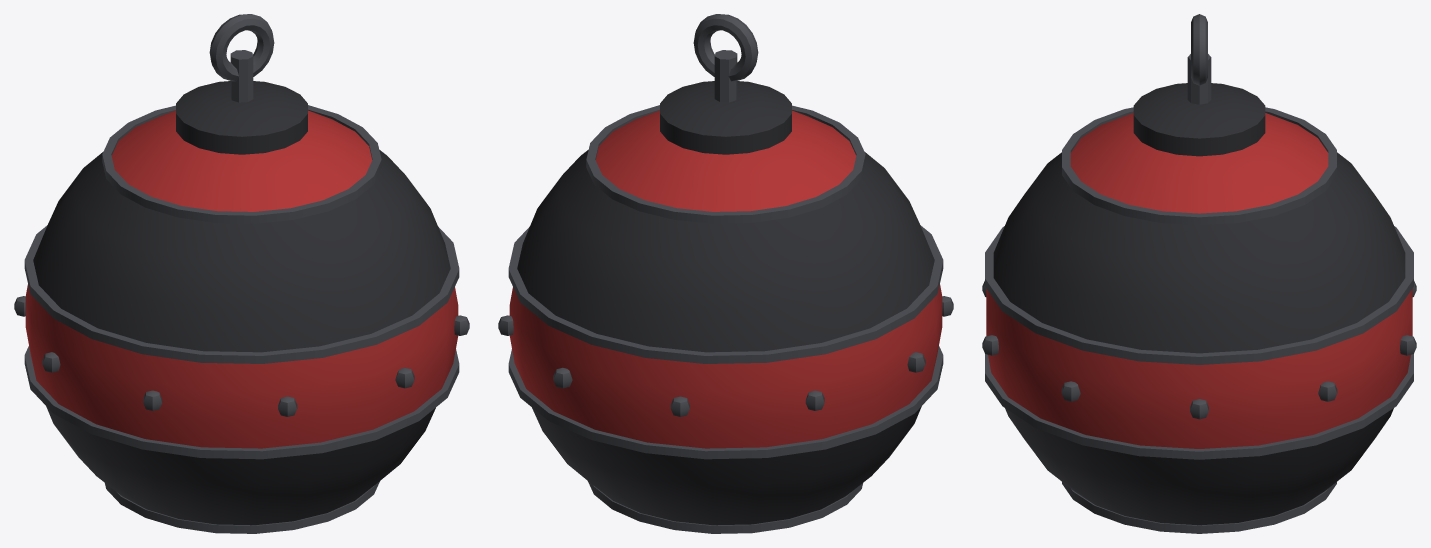
The model's file is Heavy_Bag.glb.
The picture shows the model from 3 angles, left to right: view 1: azimuth 30°, elevation 25°; view 2: azimuth 150°, elevation 25°; view 3: azimuth 270°, elevation 25°; orthographic projection.
Parts seen in each view (by area): view 1: Heavy_Bag; view 2: Heavy_Bag; view 3: Heavy_Bag.
Part boxes in pixels (<box>): Heavy_Bag: <box>14,14,469,533</box>; Heavy_Bag: <box>498,14,953,533</box>; Heavy_Bag: <box>982,14,1416,533</box>.
Bounding box in the file's own units: 1.17 × 1.39 × 1.11.
